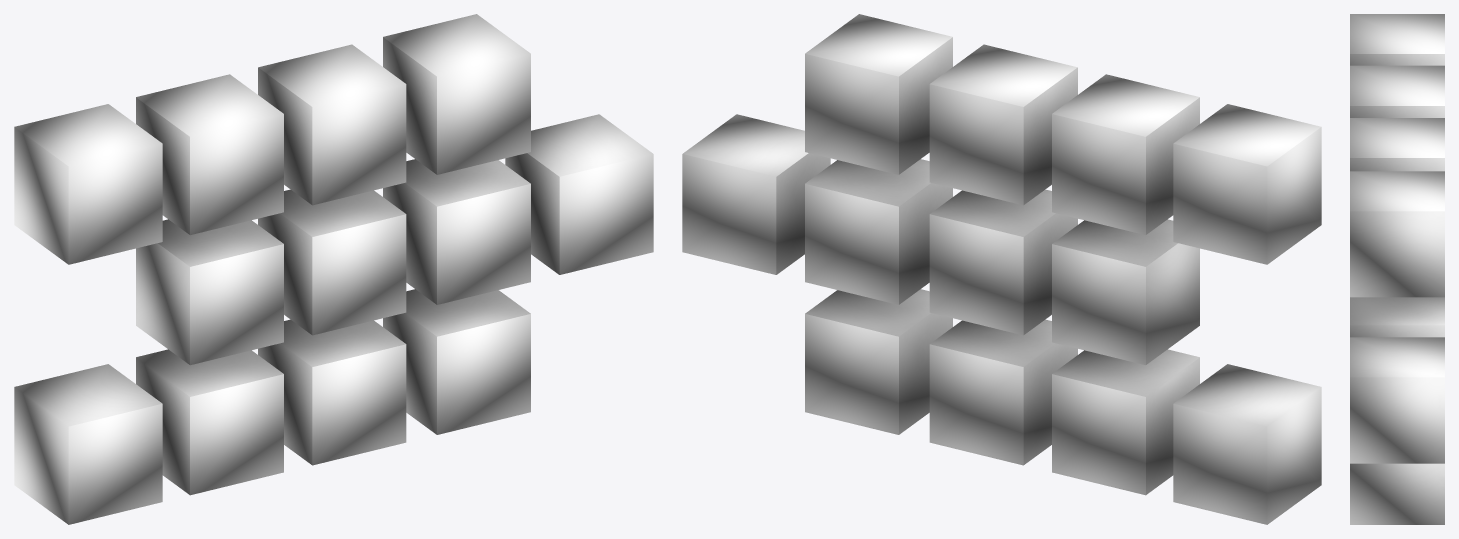
File: Arrow16.fbx
3 renders of one model, left to right at view 1: azimuth 30°, elevation 25°; view 2: azimuth 150°, elevation 25°; view 3: azimuth 270°, elevation 25°, orthographic. The views are drawn at different scales.
Parts seen in each view (by area): view 1: Arrow16; view 2: Arrow16; view 3: Arrow16.
Part boxes in pixels (left/top/right/bottom): Arrow16: left=14, top=14, right=653, bottom=524; Arrow16: left=682, top=14, right=1321, bottom=524; Arrow16: left=1350, top=14, right=1444, bottom=524.
Bounding box in the file's own units: 8.52 × 4.99 × 1.37.
